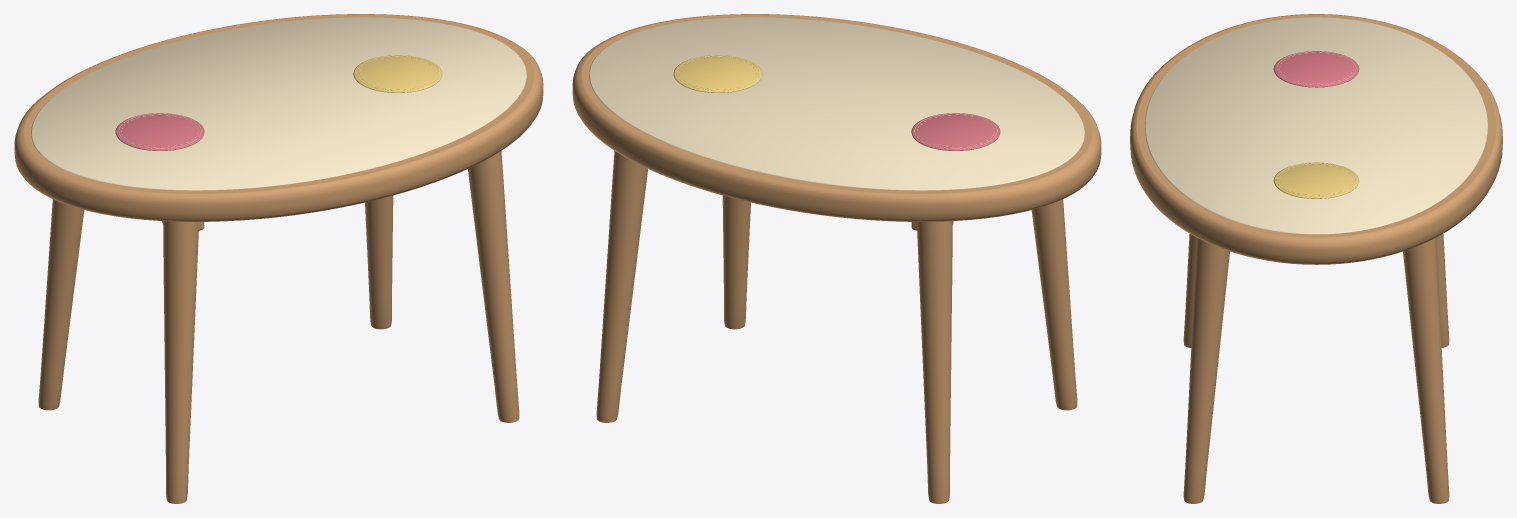
3 renders of one model, left to right at view 1: azimuth 30°, elevation 25°; view 2: azimuth 150°, elevation 25°; view 3: azimuth 270°, elevation 25°, orthographic. The views are drawn at different scales.
Visible parts, largest first — view 1: Furniture_mesh; view 2: Furniture_mesh; view 3: Furniture_mesh.
Boxes of the visible parts, bbox=[...] form: Furniture_mesh: bbox=[14, 14, 543, 503]; Furniture_mesh: bbox=[572, 14, 1101, 503]; Furniture_mesh: bbox=[1130, 14, 1502, 503].
Size of the model in its own units: 1.2 by 0.7233 by 0.82.
